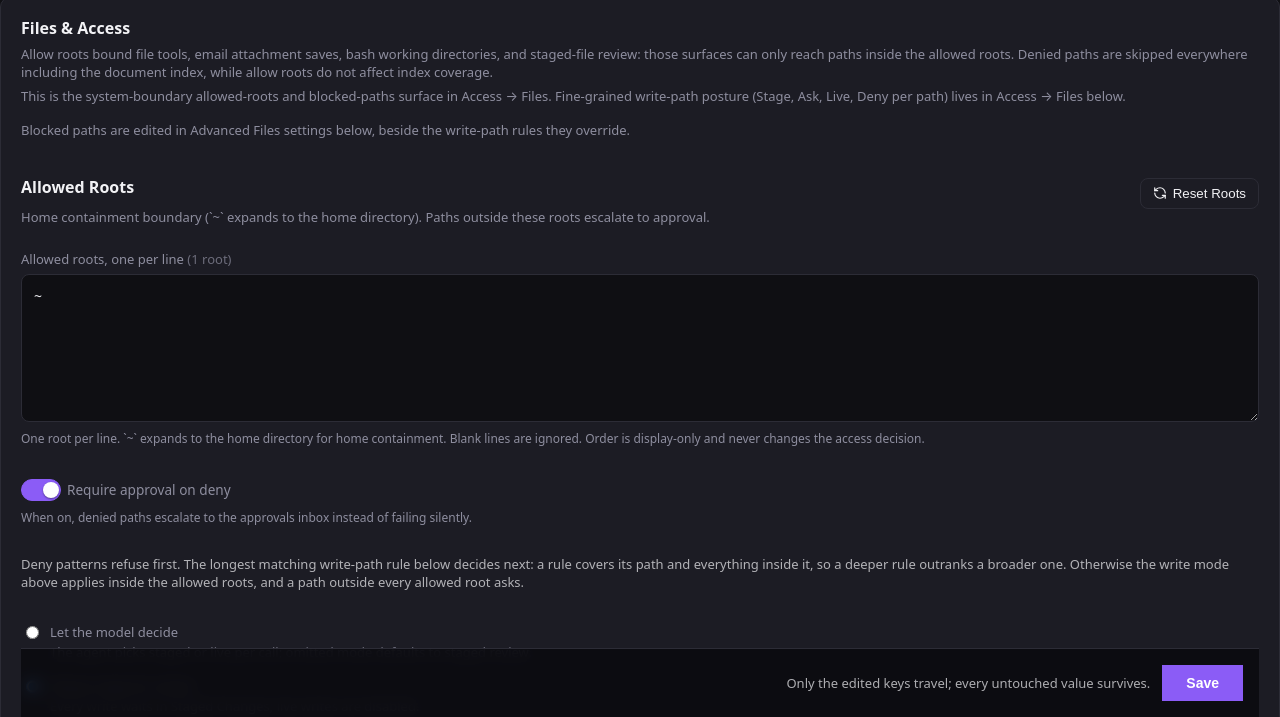
Test: AccessFilesSection › refuses a rule list past the engine bound before any network write
The image size is (1280, 717).
Step 1. Click the button with test id "files-write-save" → (1203, 683), box [1162,665,1243,701]
(page scrolled)
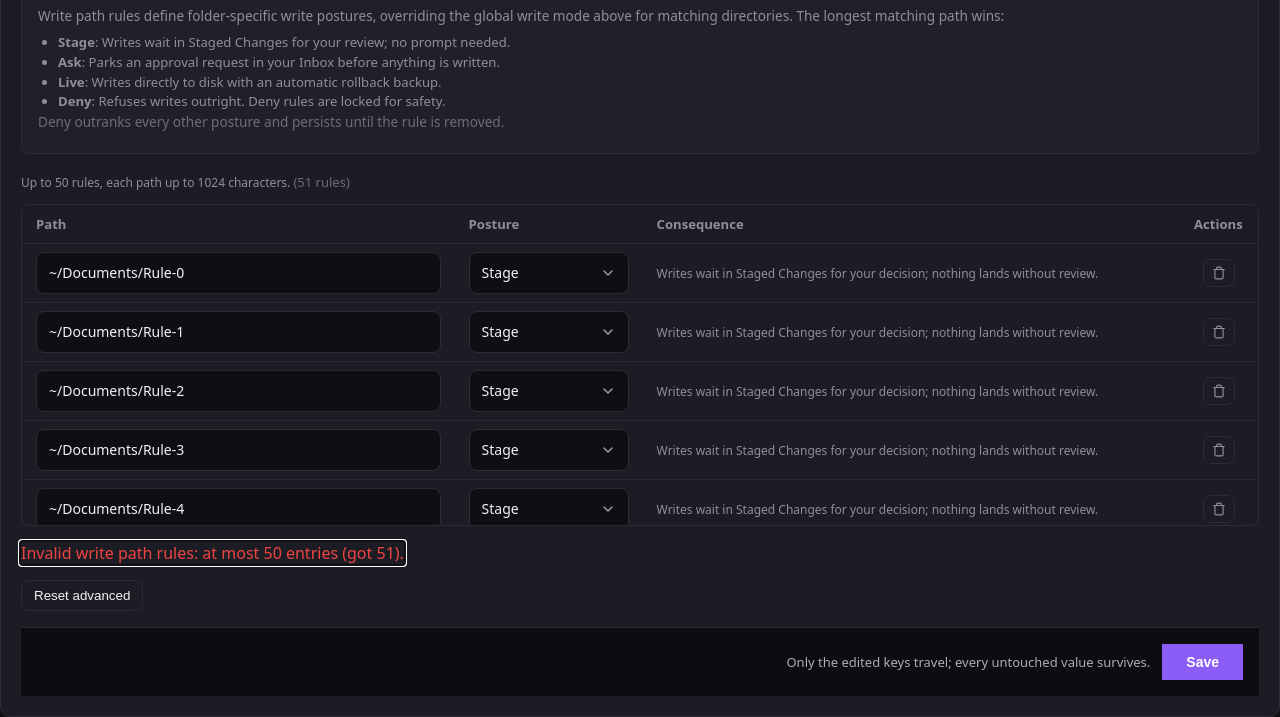
Expected: the link "Invalid write path rules: at most 50 entries (got 51)." is shown, [21,542,404,564]
